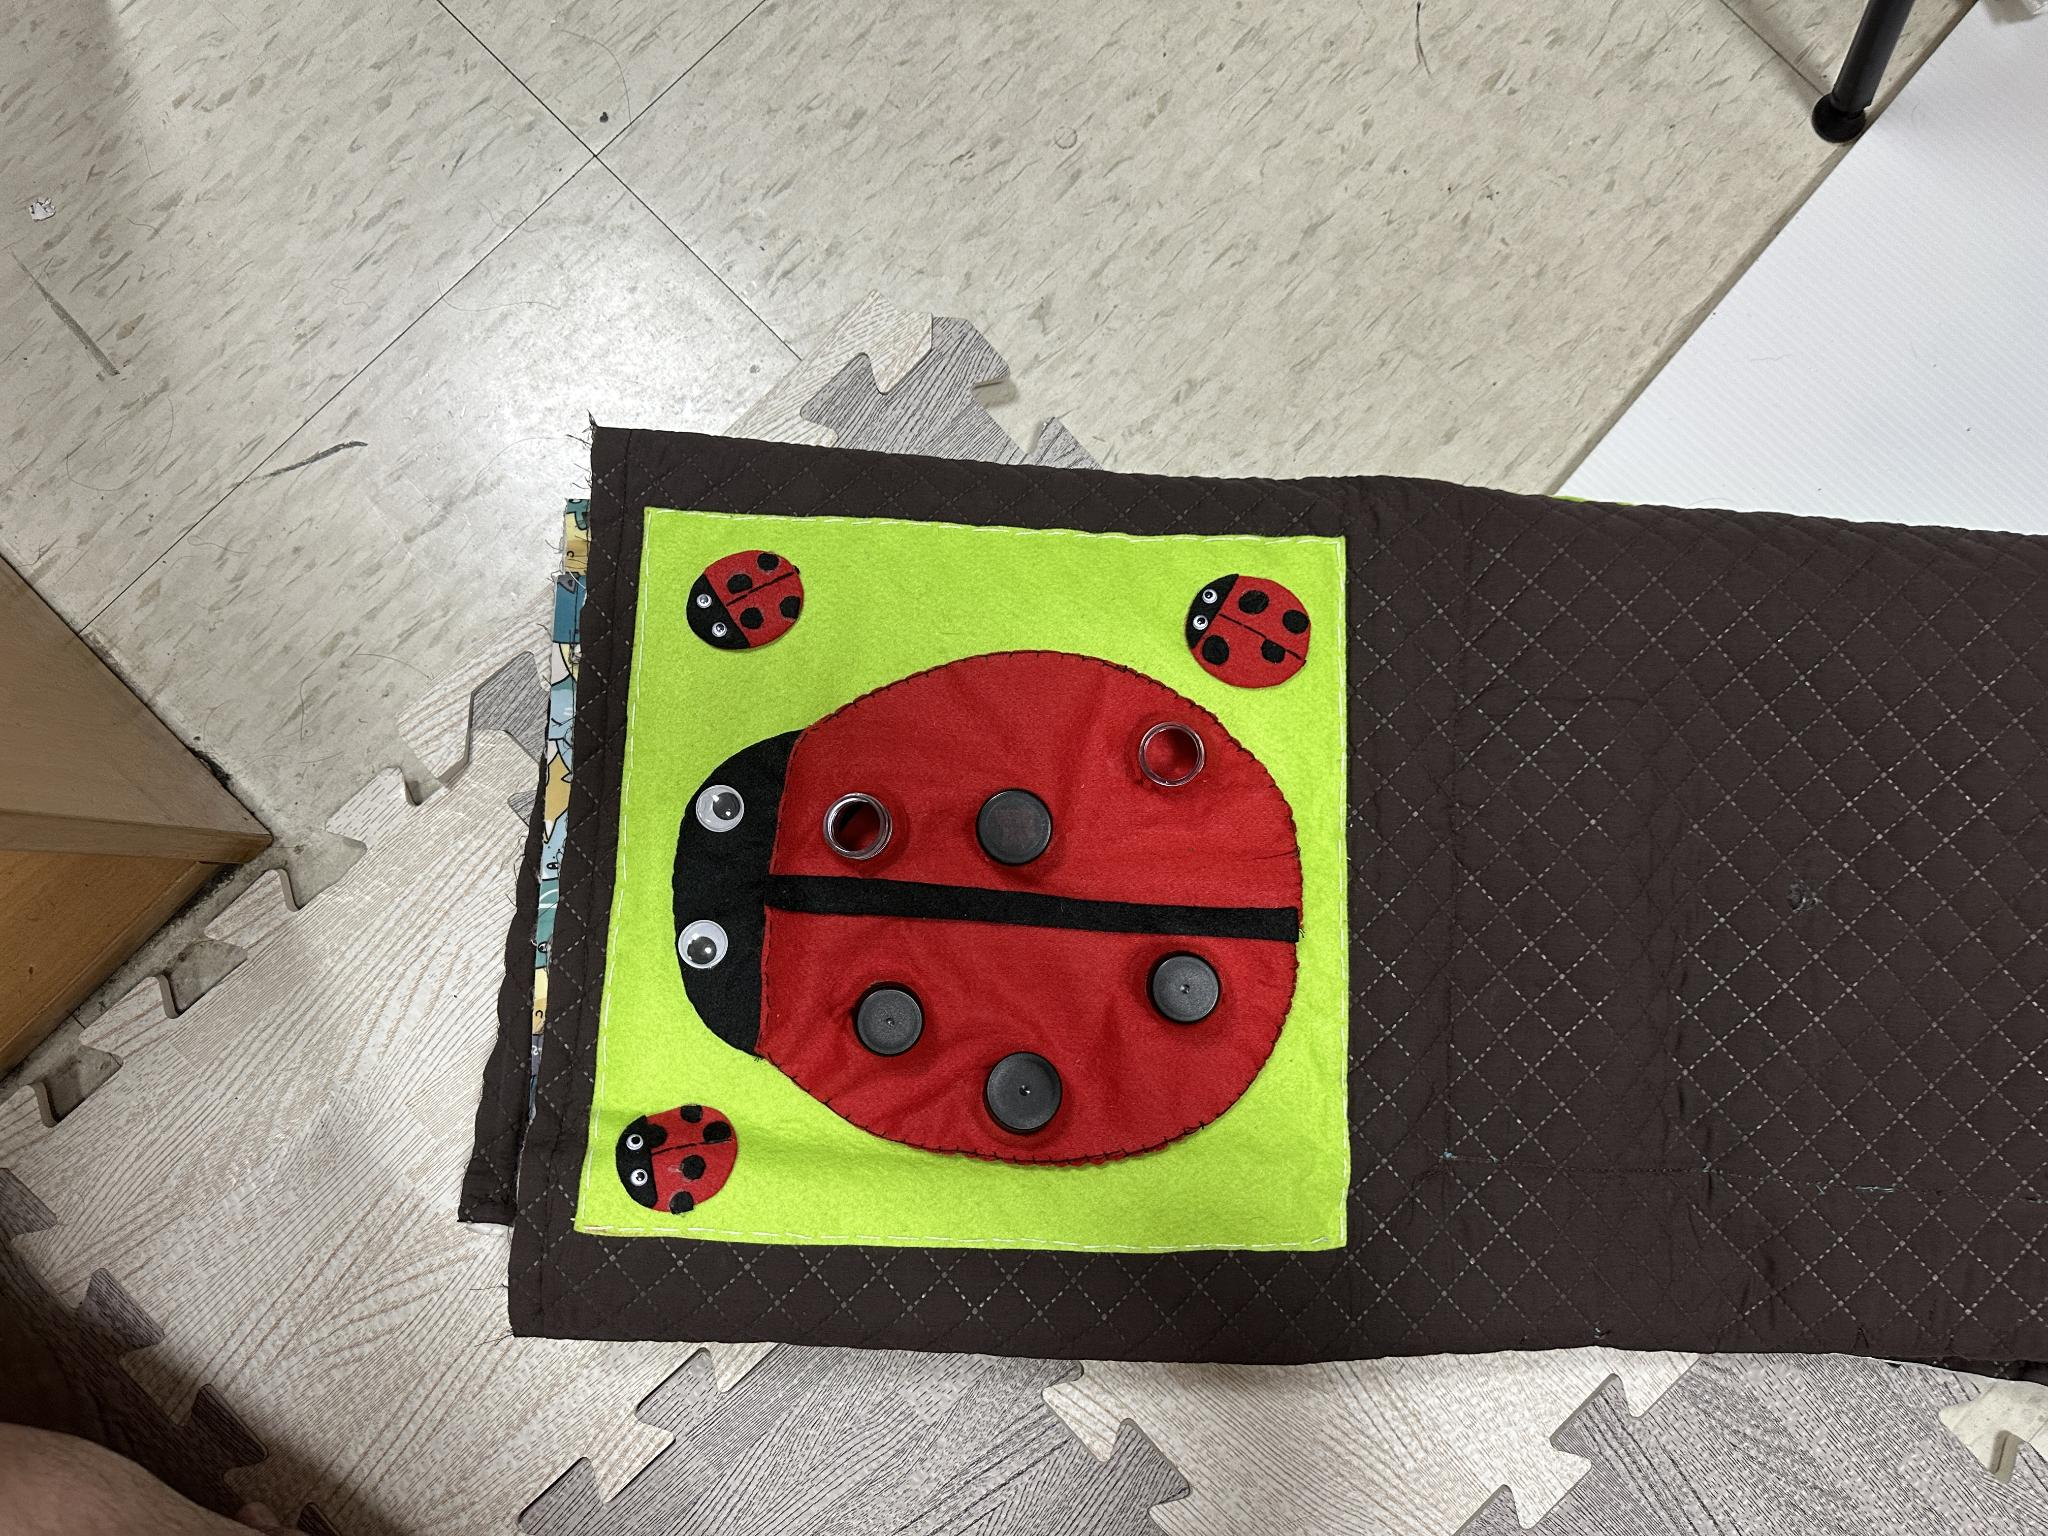cap_ok: (955, 1037, 1092, 1142), (964, 774, 1066, 881), (839, 963, 940, 1068), (1130, 942, 1240, 1034)
